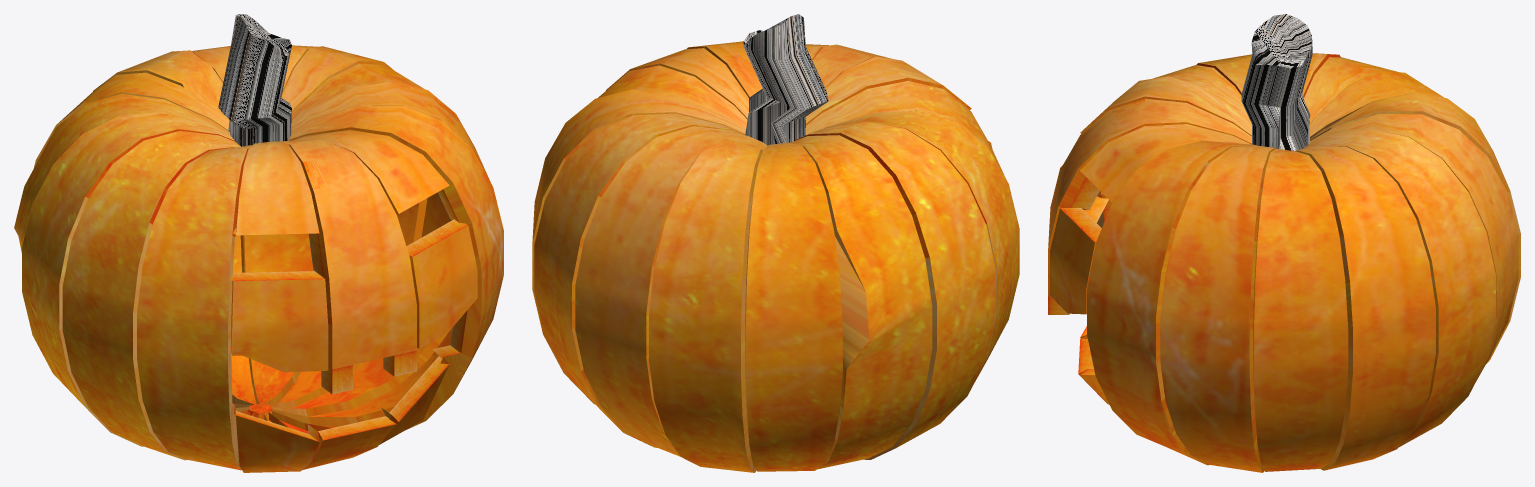
Rendered from pumpkin_658aebe1.glb.
The picture shows the model from 3 angles, left to right: view 1: azimuth 30°, elevation 25°; view 2: azimuth 150°, elevation 25°; view 3: azimuth 270°, elevation 25°; orthographic projection. The views are drawn at different scales.
Parts seen in each view (by area): view 1: pSphere1; view 2: pSphere1; view 3: pSphere1.
Part boxes in pixels (x1,y1,x2,y2): pSphere1: (14,14,503,472); pSphere1: (532,14,1019,472); pSphere1: (1048,14,1520,472).
Bounding box in the file's own units: 2.07 × 1.95 × 2.07.
Materials: 2 (2 with a texture image).
